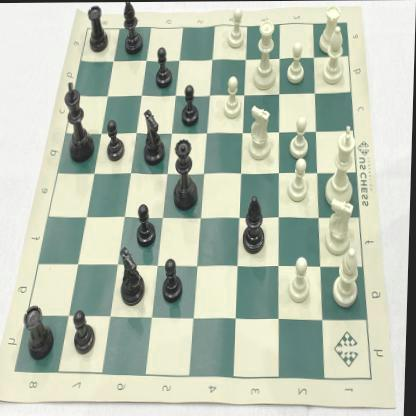black-bishop: (243, 194, 269, 258), (121, 2, 145, 56)
black-king: (62, 76, 97, 166)
black-knight: (119, 243, 148, 308), (142, 107, 167, 166)
black-pawn: (74, 306, 100, 356), (162, 256, 186, 304), (178, 82, 202, 130), (136, 202, 160, 248), (104, 118, 127, 165), (154, 43, 176, 90)
black-queen: (174, 136, 202, 213)
black-rook: (23, 300, 58, 360), (85, 2, 110, 55)
white-bishop: (332, 245, 363, 308), (321, 25, 348, 86)
white-king: (325, 122, 359, 208)
white-knight: (324, 197, 357, 256), (248, 105, 275, 163)
white-pawn: (286, 157, 314, 204), (288, 256, 314, 305), (284, 40, 308, 89), (225, 4, 248, 52), (221, 74, 244, 120), (290, 113, 312, 161)
white-queen: (251, 15, 280, 93)
white-rook: (318, 4, 342, 54)
